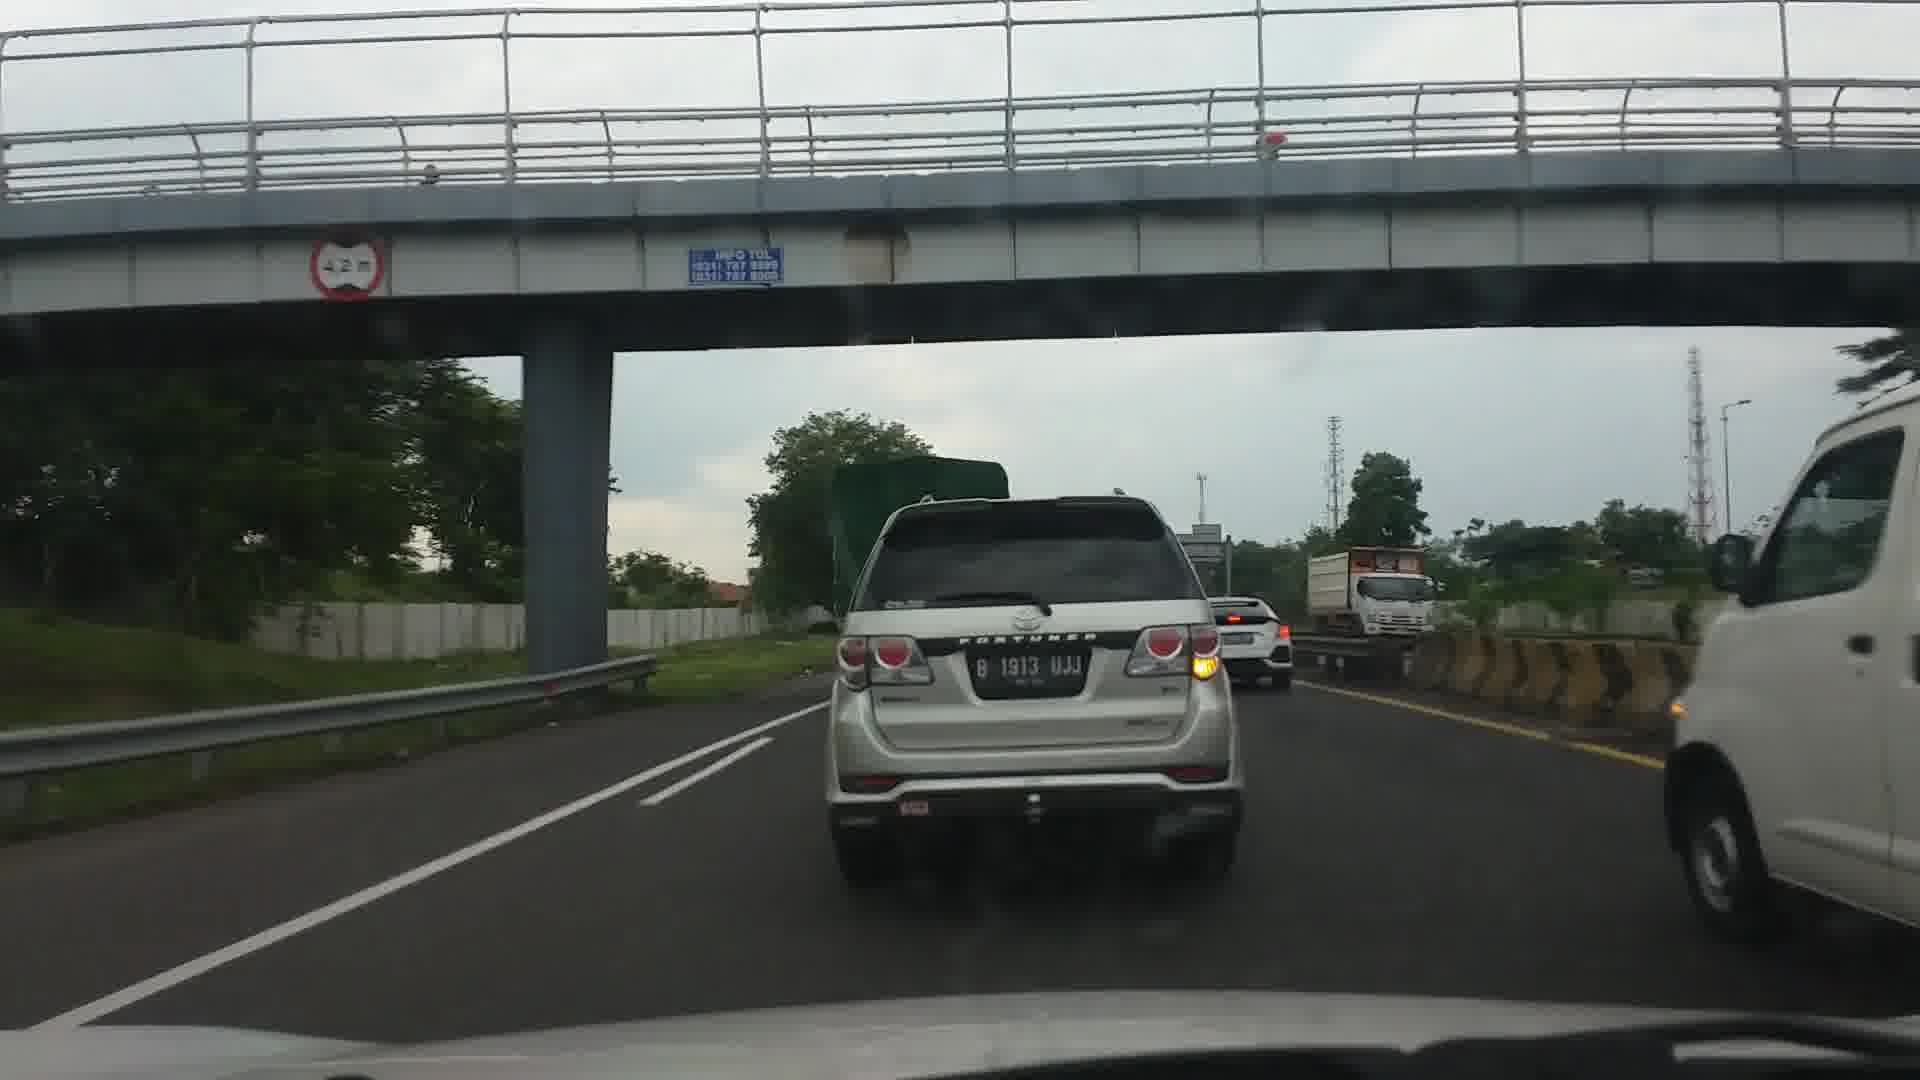plate_positive: (973, 651, 1083, 688)
